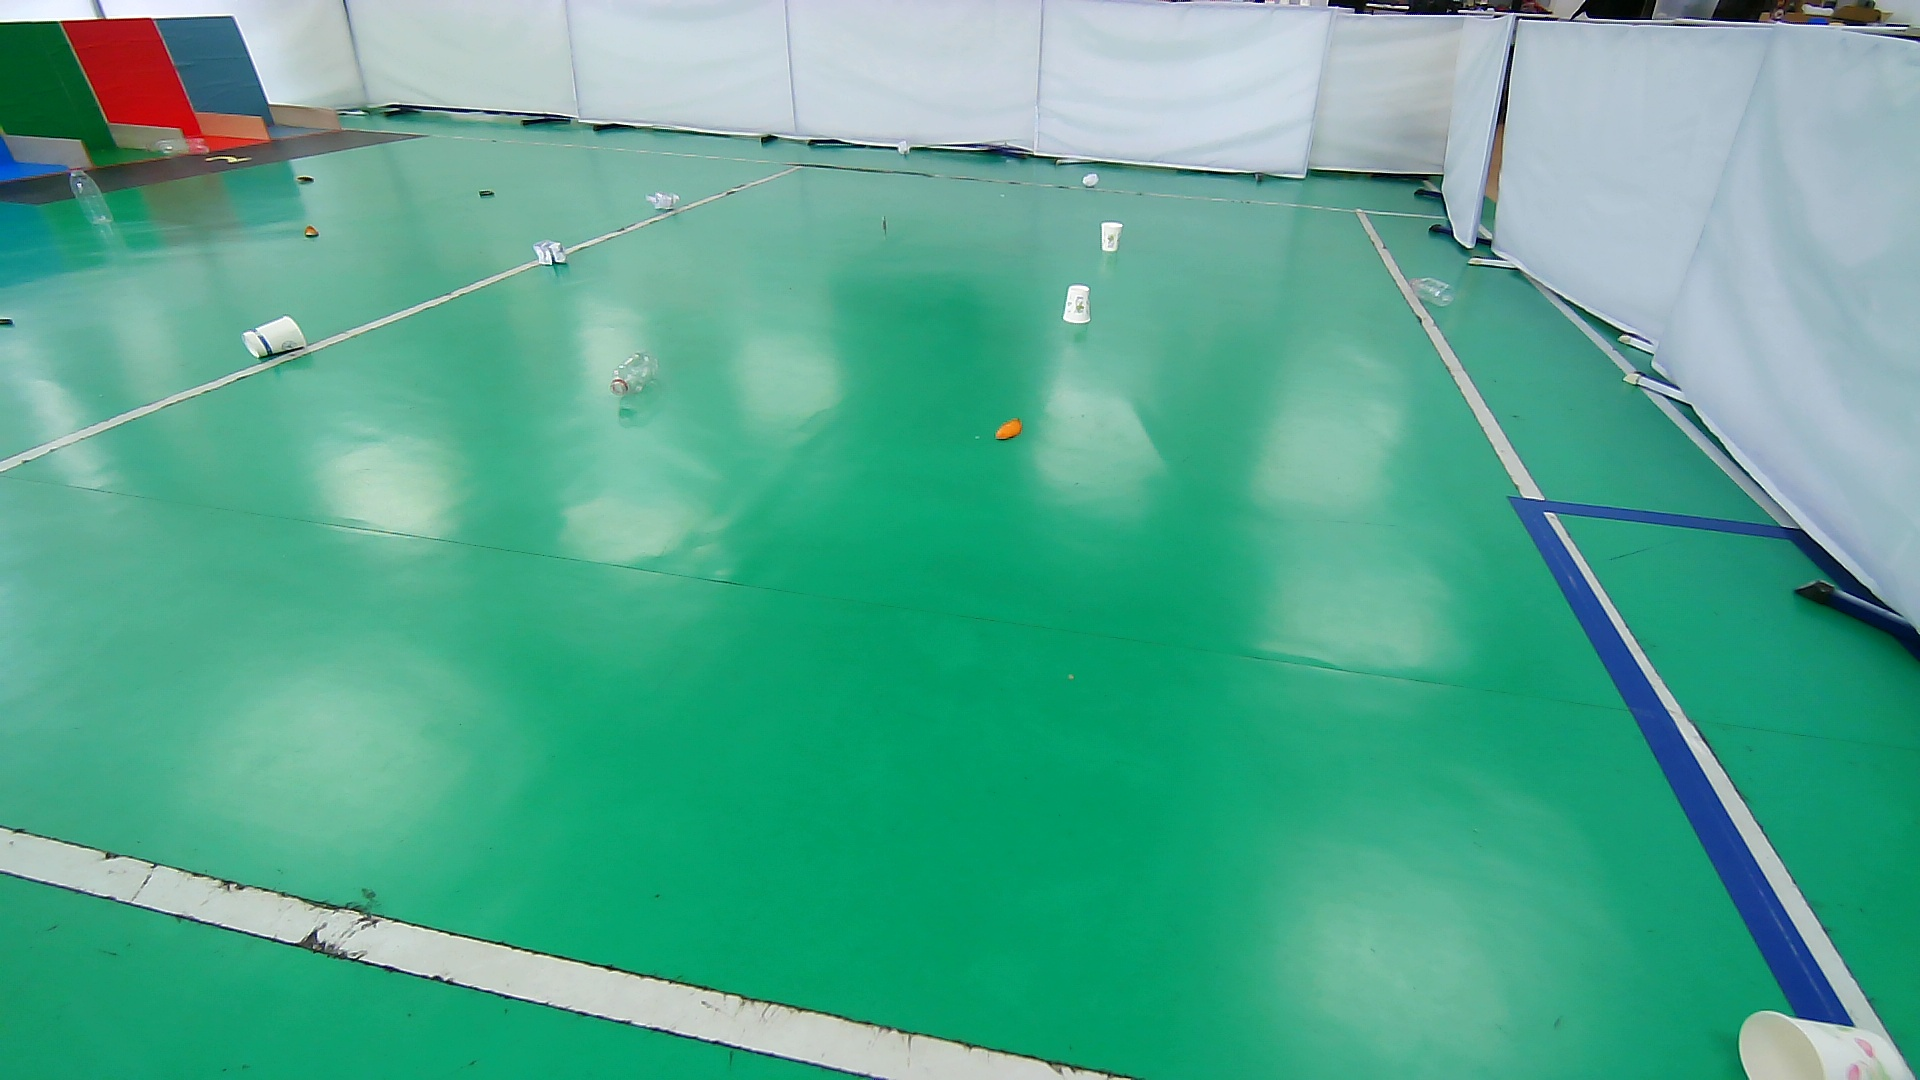battery: (874, 208, 895, 237), (473, 183, 500, 204), (1, 310, 18, 334)
bottle: (607, 347, 663, 401), (69, 162, 115, 227), (1408, 274, 1458, 310), (141, 137, 210, 160)
orangepeel: (986, 414, 1030, 450), (297, 219, 326, 245), (289, 167, 322, 190)
papercup: (1735, 1000, 1902, 1080), (237, 311, 313, 360), (1058, 281, 1097, 327), (1095, 220, 1125, 256)
spitball: (531, 235, 570, 269), (642, 189, 684, 214), (1079, 170, 1102, 189)
